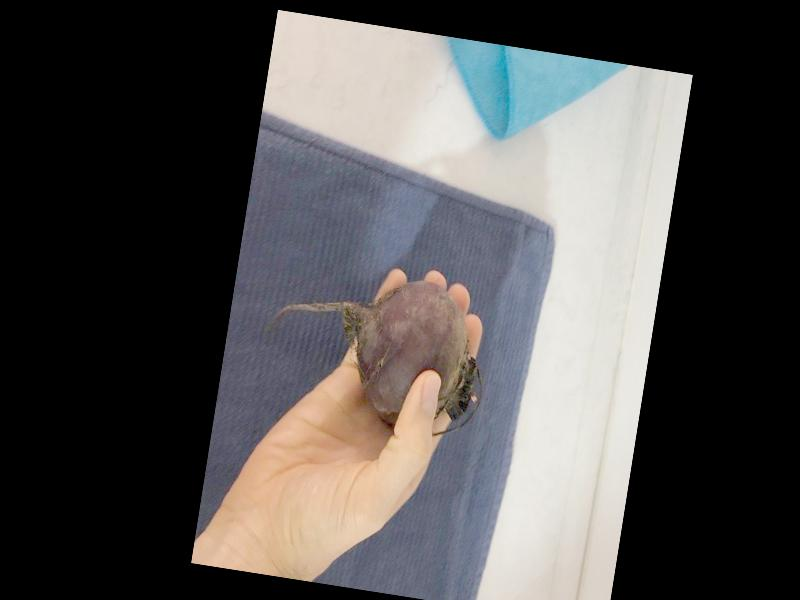Beet: (259, 260, 496, 443)
